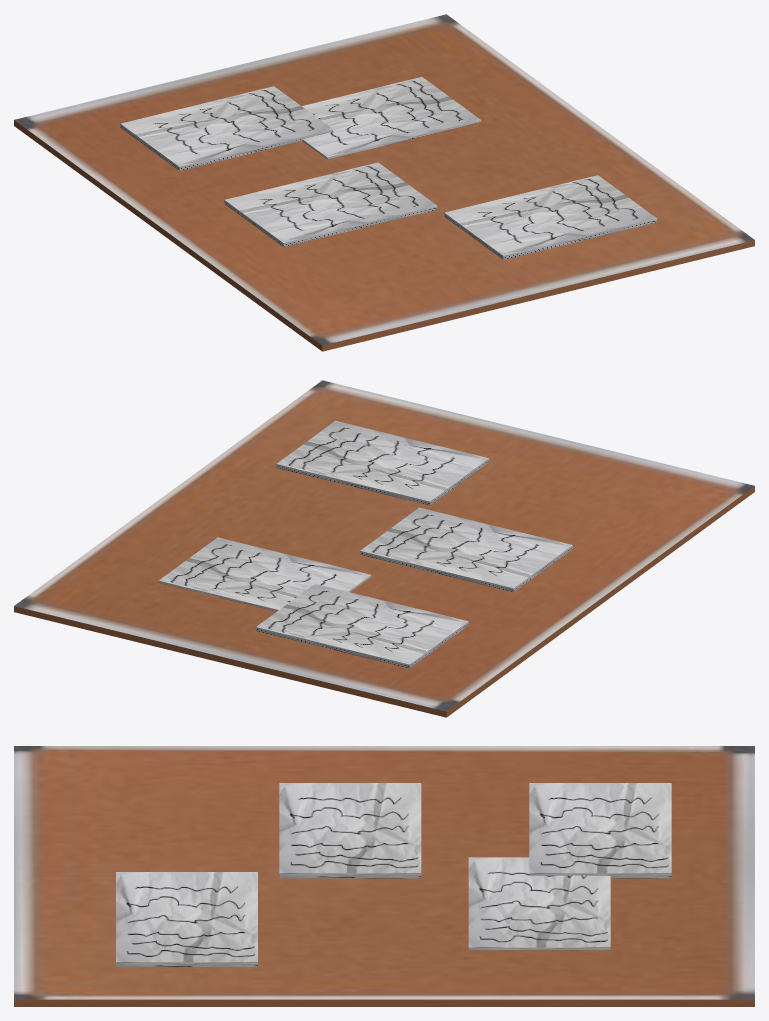
The model's file is BulletinBoard.fbx.
3 views of the same model, one above another, from view 1: azimuth 30°, elevation 25°; view 2: azimuth 150°, elevation 25°; view 3: azimuth 270°, elevation 25° (orthographic). The views are drawn at different scales.
Parts seen in each view (by area): view 1: Cube, Cube.002, Cube.003, Cube.004, Cube.001; view 2: Cube, Cube.003, Cube.002, Cube.004, Cube.001; view 3: Cube, Cube.002, Cube.003, Cube.004, Cube.001.
Boxes of the visible parts, <box> form: Cube: <box>14,14,754,351</box>; Cube.002: <box>224,162,437,247</box>; Cube.003: <box>444,175,657,259</box>; Cube.004: <box>120,86,333,170</box>; Cube.001: <box>302,77,481,159</box>; Cube: <box>14,380,754,717</box>; Cube.003: <box>276,420,489,505</box>; Cube.002: <box>360,507,572,592</box>; Cube.004: <box>256,584,468,668</box>; Cube.001: <box>158,537,371,611</box>; Cube: <box>14,746,754,1006</box>; Cube.002: <box>279,783,421,878</box>; Cube.003: <box>116,872,257,966</box>; Cube.004: <box>529,783,671,878</box>; Cube.001: <box>468,857,610,949</box>.
Bounding box in the file's own units: 450 × 10.14 × 555.
5 materials, 5 textured.
